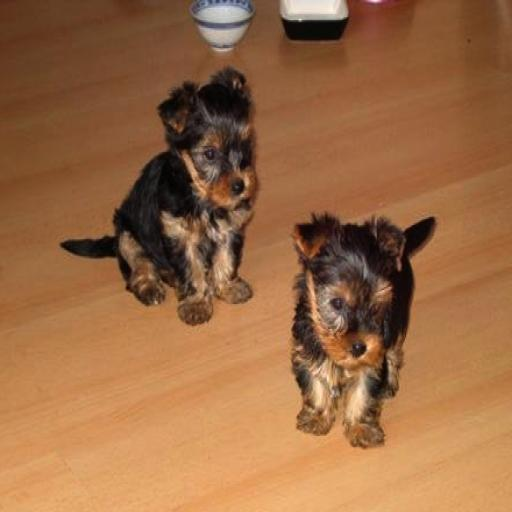dog_face: (294, 216, 404, 377), (162, 79, 257, 208)
